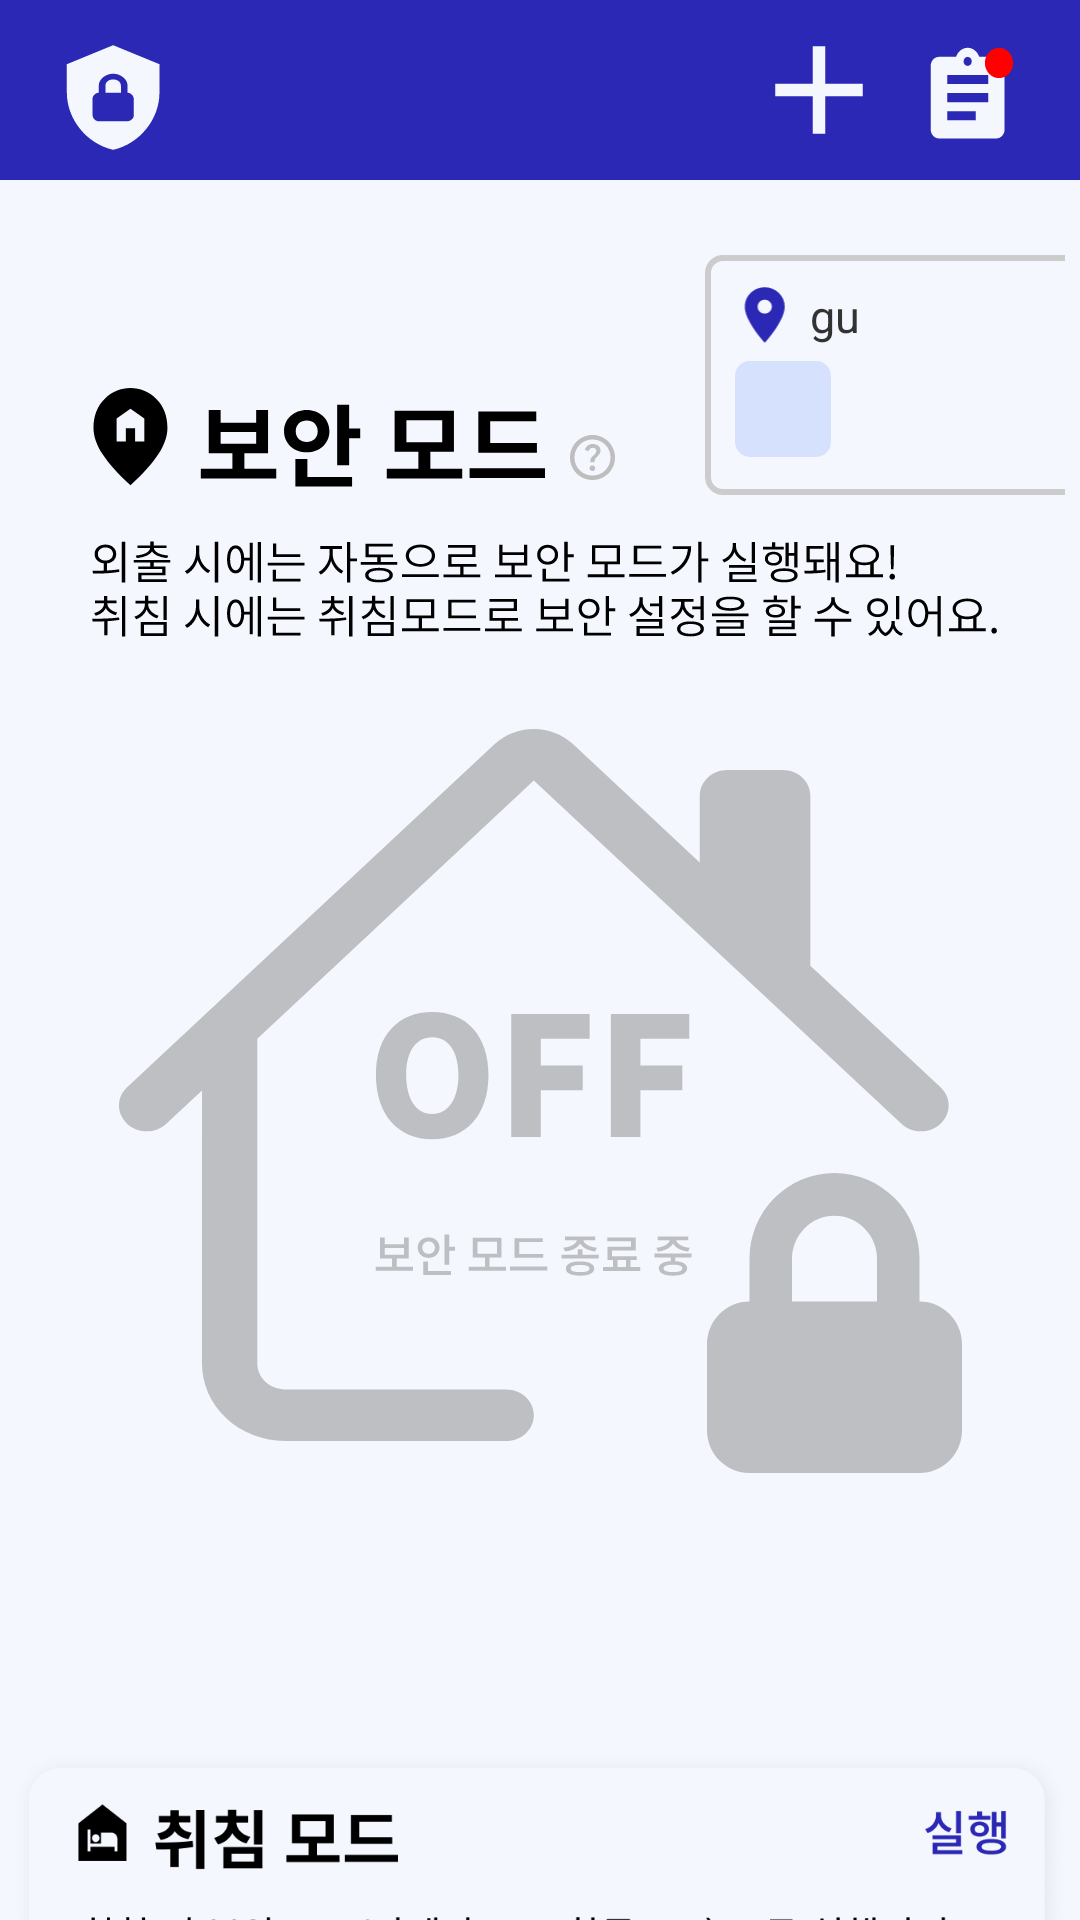

Screen size 1080px×1920px. Icon name, then its center in pixels as (x,y):
place: (764,315)
top alarm: (971,93)
top plus: (819,90)
